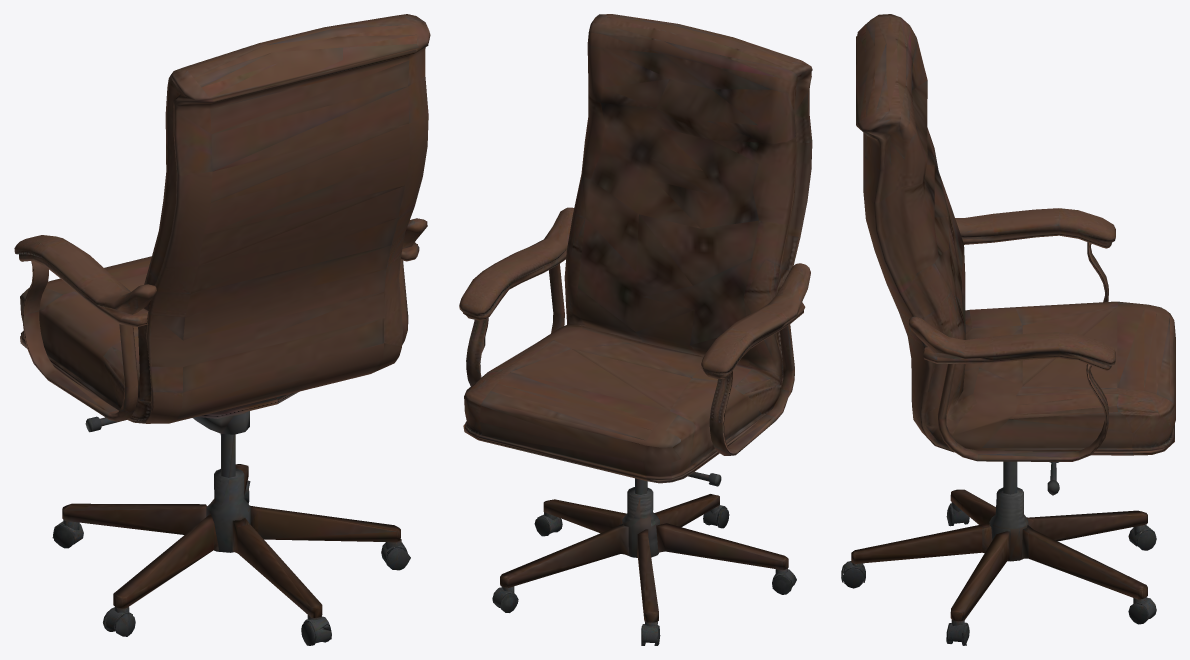
Rendered from office-executive-chair.glb.
3 renders of one model, left to right at view 1: azimuth 30°, elevation 25°; view 2: azimuth 150°, elevation 25°; view 3: azimuth 270°, elevation 25°, orthographic. The views are drawn at different scales.
Parts seen in each view (by area): view 1: executive-chair; view 2: executive-chair; view 3: executive-chair.
Boxes of the visible parts, <box> form: executive-chair: <box>14,14,430,645</box>; executive-chair: <box>459,14,812,645</box>; executive-chair: <box>841,14,1175,645</box>.
Bounding box in the file's own units: 0.7045 × 1.25 × 0.7192.
1 material, 1 textured.
